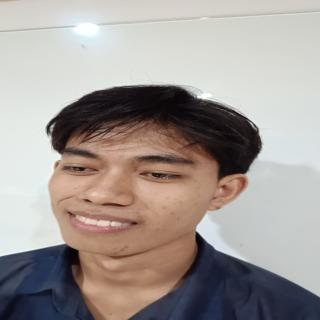Senang: (44, 103, 227, 266)
